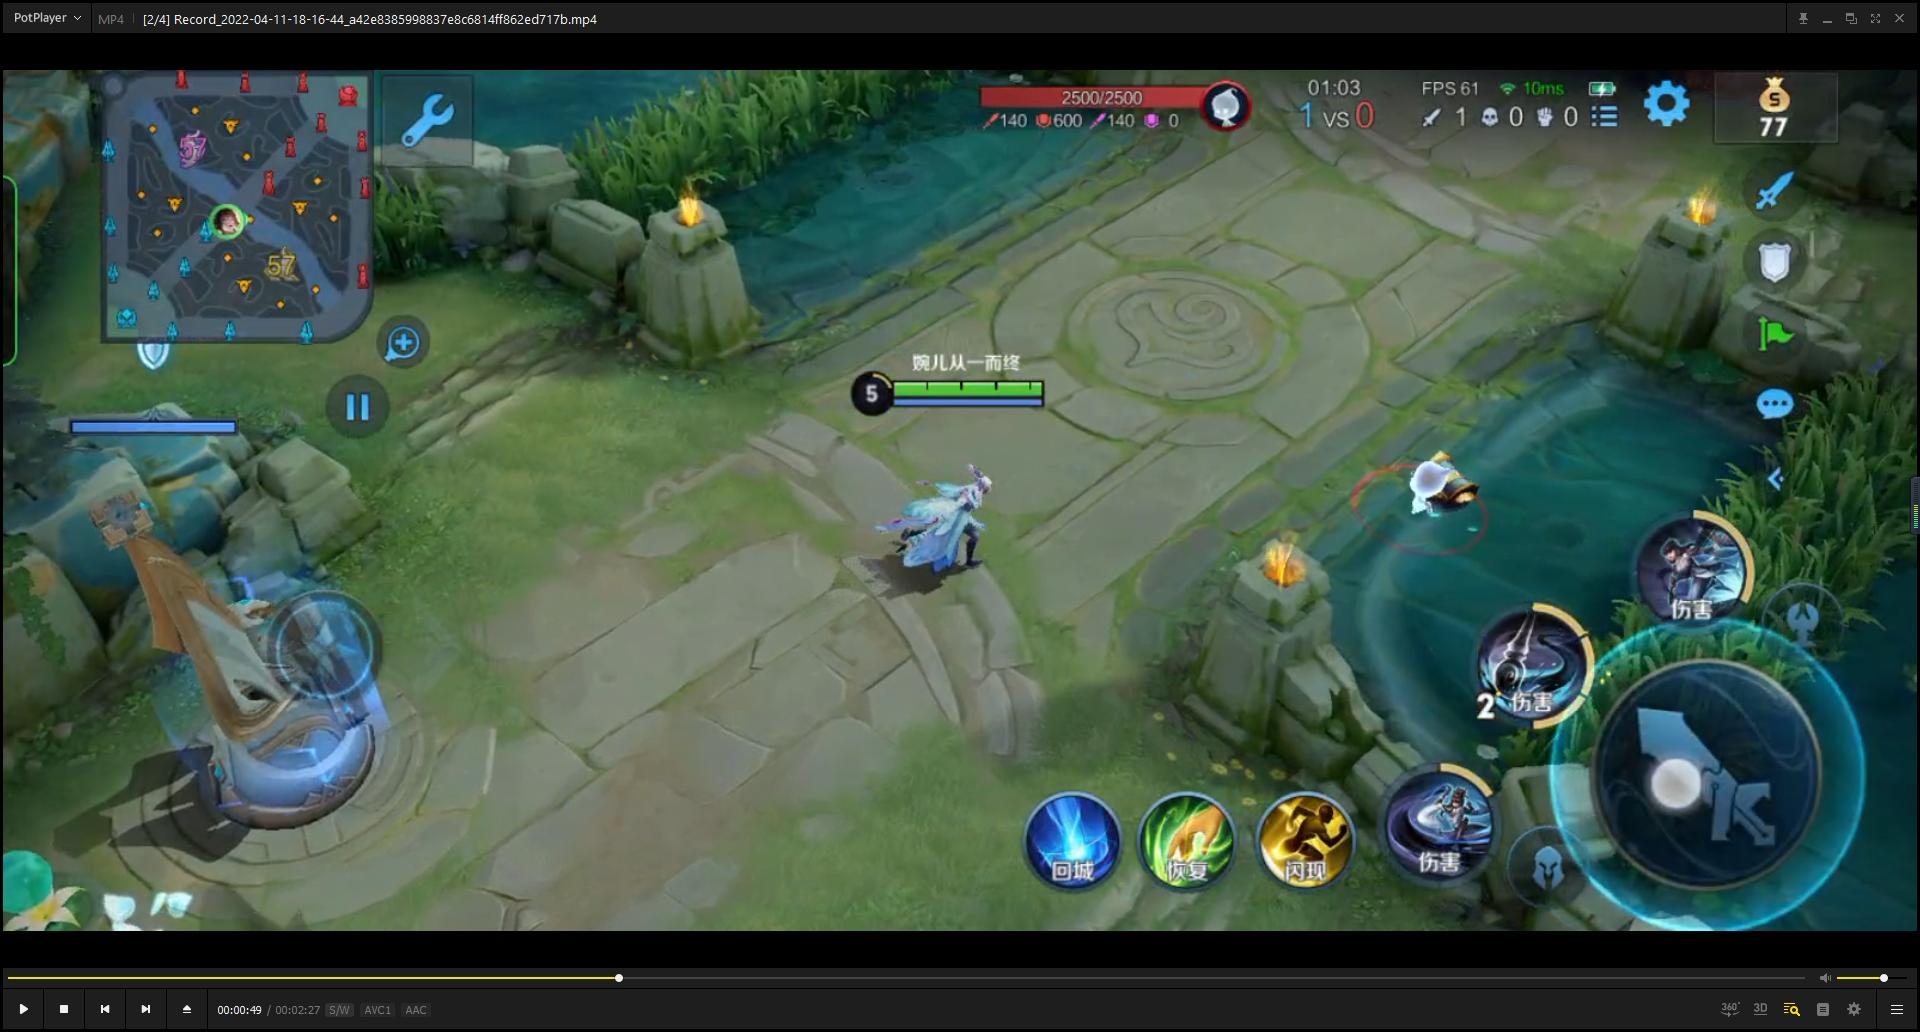Hero: (845, 452, 1036, 594)
Spirit: (1360, 433, 1485, 548)
Tower: (36, 386, 396, 858)
